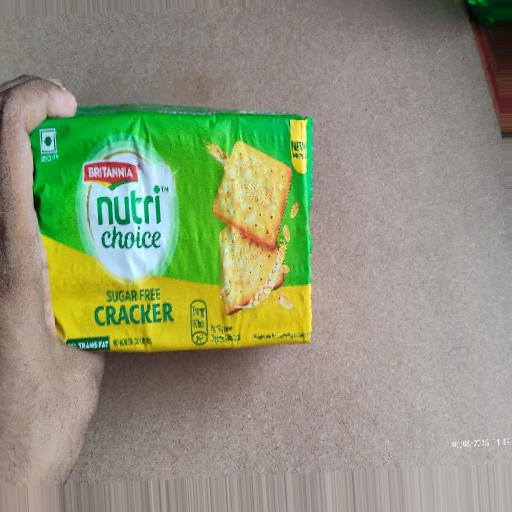Britannia Nutri-choice: (25, 103, 342, 379)
